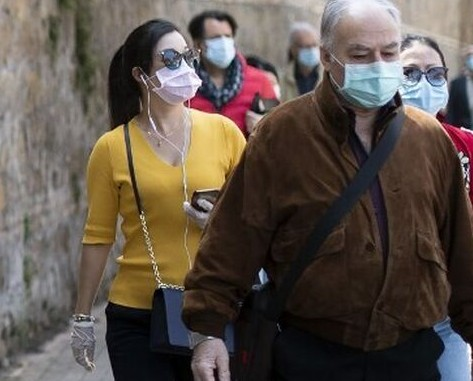with_mask: (323, 2, 407, 112), (130, 28, 205, 111), (399, 35, 451, 117), (193, 8, 245, 70), (283, 19, 323, 71)
